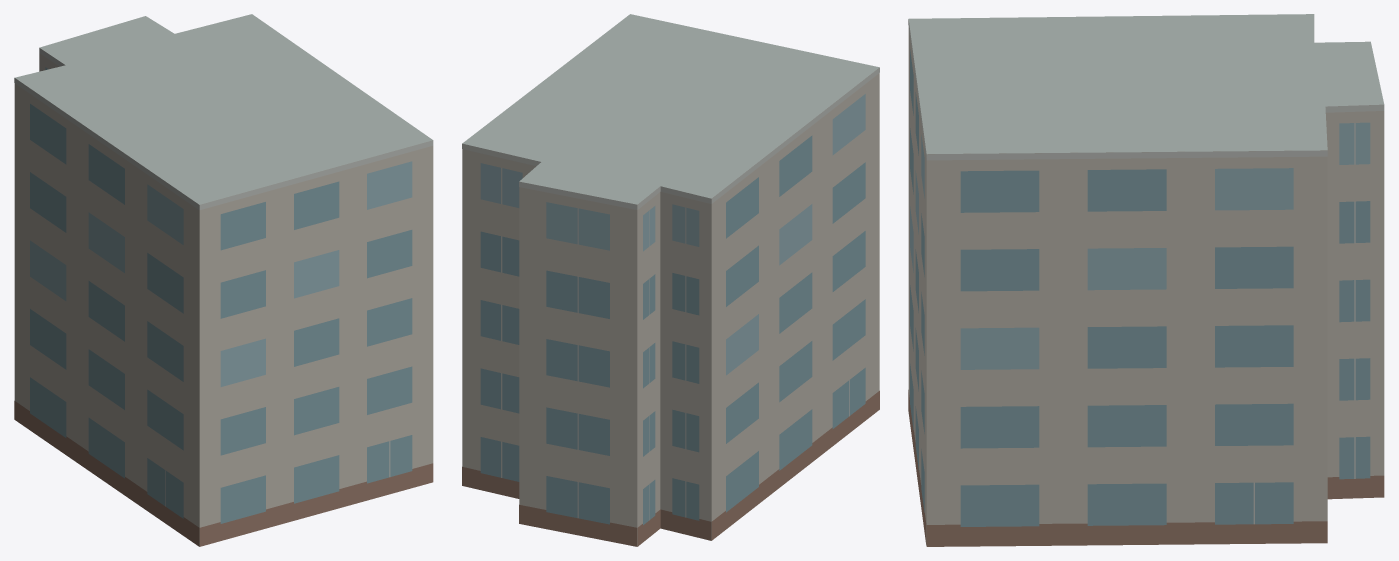
The model's file is survey-upis-32544228.glb.
3 renders of one model, left to right at view 1: azimuth 30°, elevation 25°; view 2: azimuth 150°, elevation 25°; view 3: azimuth 270°, elevation 25°, orthographic. The views are drawn at different scales.
Visible parts, largest first — view 1: survey-upis-32544228.tmp; view 2: survey-upis-32544228.tmp; view 3: survey-upis-32544228.tmp.
Boxes of the visible parts, x1,y1,x2,y2 form: survey-upis-32544228.tmp: (14,14,433,546); survey-upis-32544228.tmp: (462,14,879,546); survey-upis-32544228.tmp: (908,14,1384,546).
Bounding box in the file's own units: 11.72 × 15.3 × 16.81.
